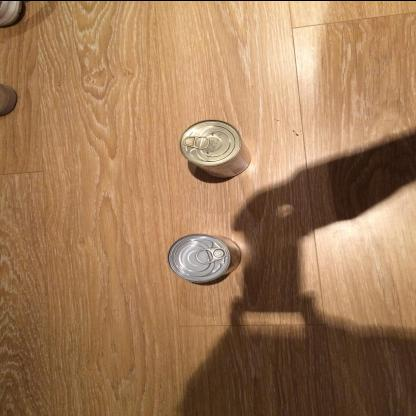metal: (180, 118, 254, 180), (167, 231, 244, 283)
